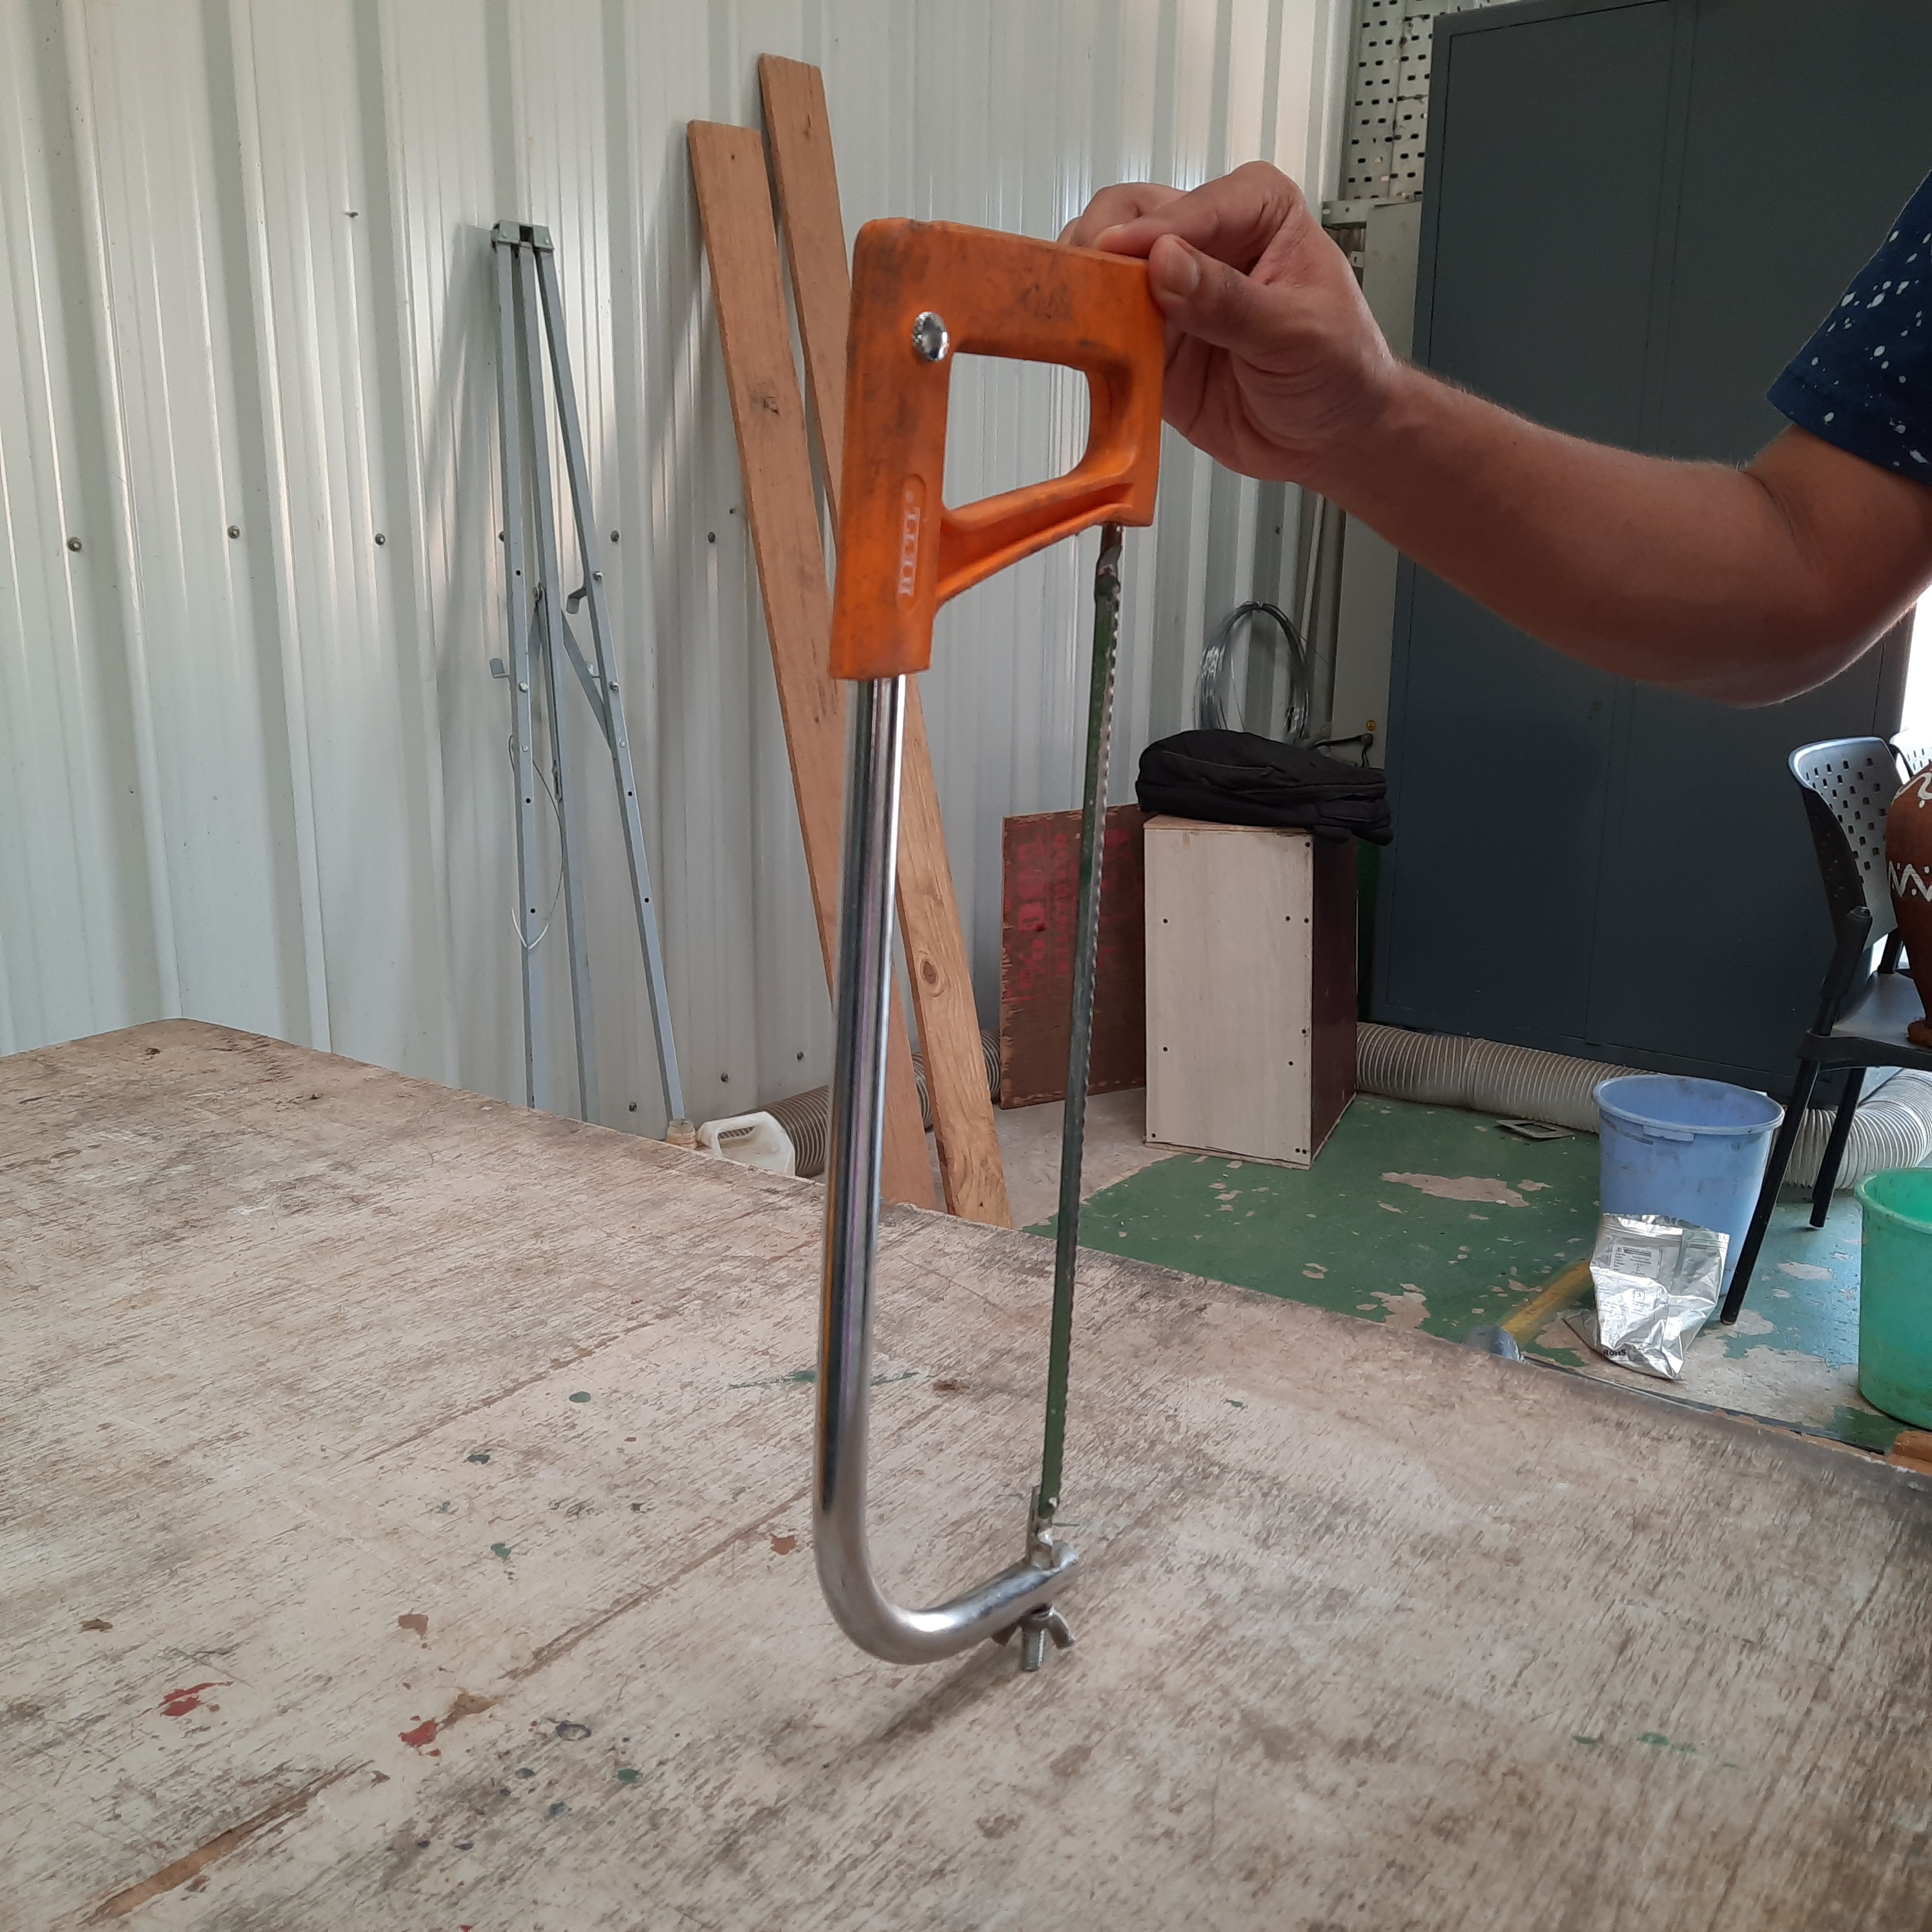Hexaframe: (810, 218, 1125, 1698)
